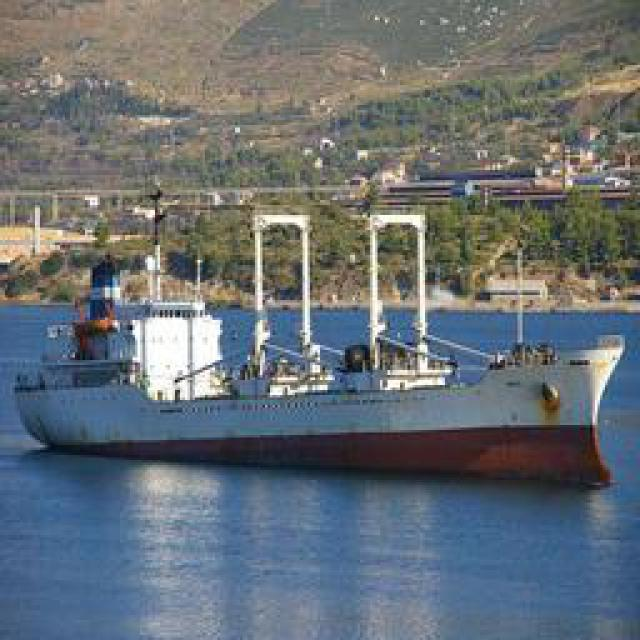Ship: (11, 167, 631, 477)
